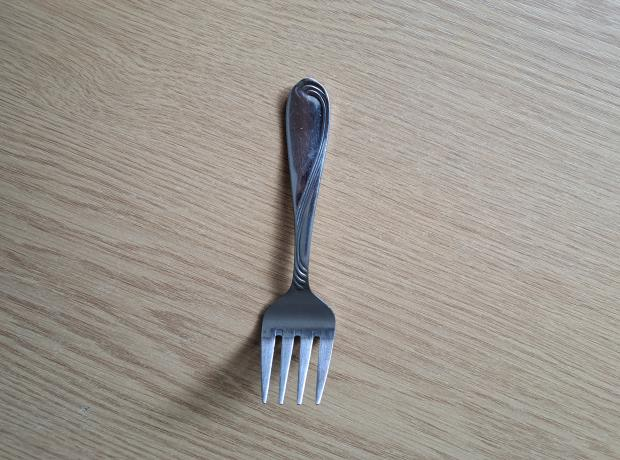metal: (256, 74, 339, 406)
